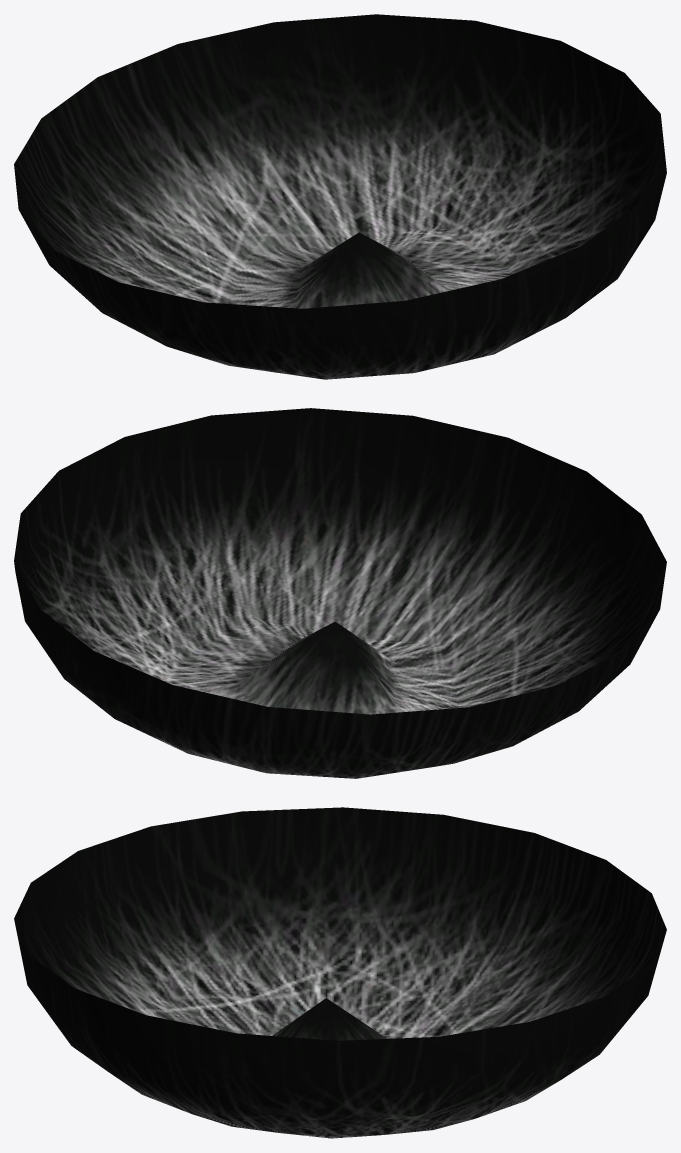
File: MIRKWOOD_SB_996.fbx
The picture shows the model from 3 angles, top to bottom: view 1: azimuth 30°, elevation 25°; view 2: azimuth 150°, elevation 25°; view 3: azimuth 270°, elevation 25°; orthographic projection.
Visible parts, largest first — view 1: MIRKWOOD_SB_996; view 2: MIRKWOOD_SB_996; view 3: MIRKWOOD_SB_996.
Part boxes in pixels (x1=…): MIRKWOOD_SB_996: x1=14, y1=14, x2=666, y2=379; MIRKWOOD_SB_996: x1=14, y1=408, x2=666, y2=778; MIRKWOOD_SB_996: x1=14, y1=807, x2=666, y2=1138.
Size of the model in its own units: 178495 by 53417 by 179783.
Materials: 1 (1 with a texture image).
